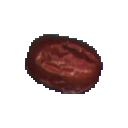gd: (15, 20, 115, 109)
